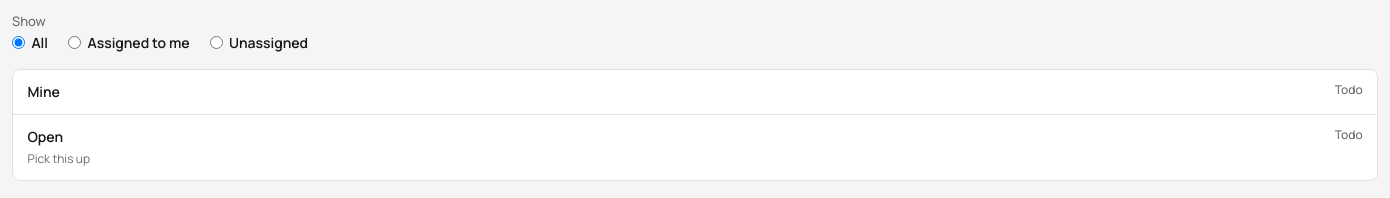
Test: InboxList › filters to assigned tasks
The width and height of the screenshot is (1390, 198).
Click the radio button labelled "Assigned to me": (74, 42) [68,36,81,48]
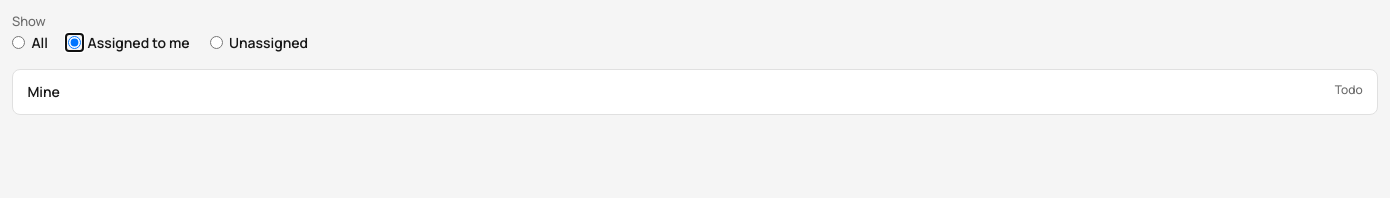
Check: the button "Mine Todo" is shown, box [13,70,1377,114]
Check: the button "Open" is gone
